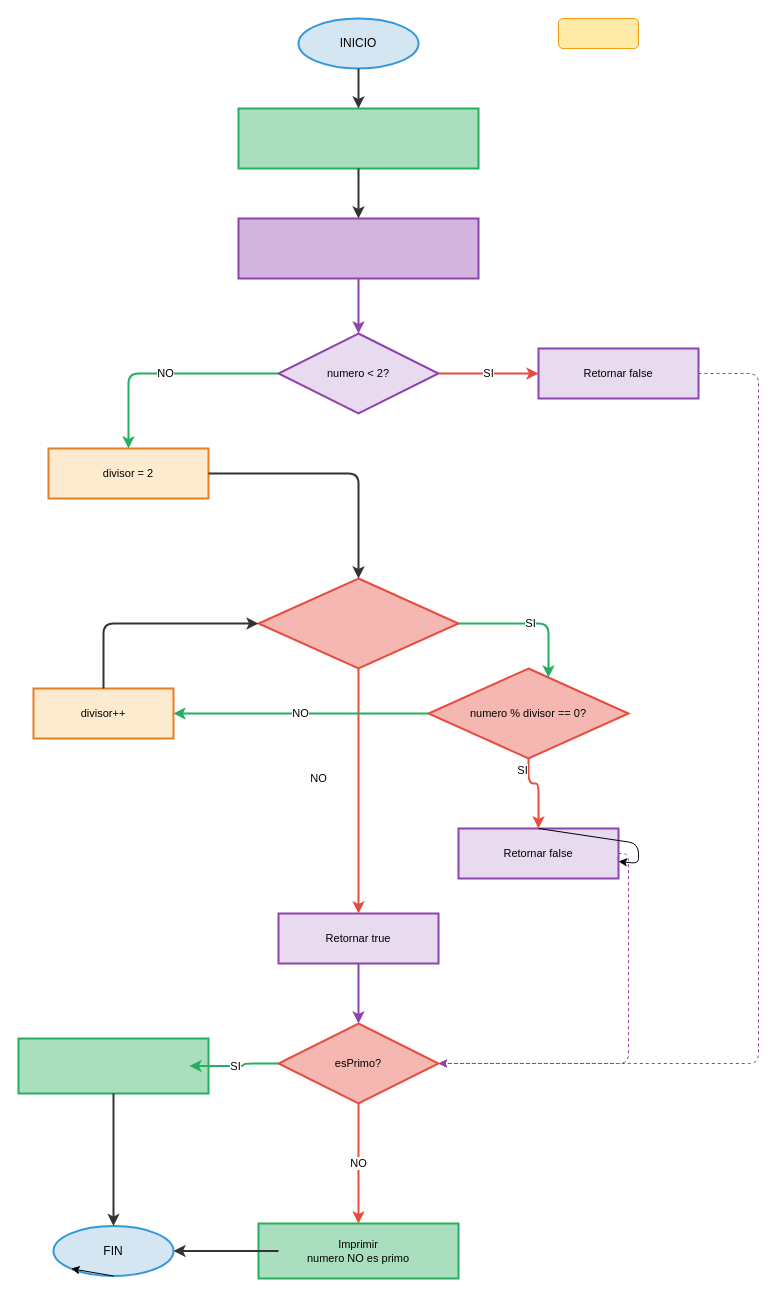
Some shapes in this 784 by 1301 pixel diagram are drawn without their labels. Here are the shapes that lost their labels. From the top down, the centre of each, then its label:
the point at 598,33: O(sqrt(n))
the point at 358,138: Leer numero
the point at 358,248: Llamar esPrimo(numero)
the point at 358,623: divisor*divisor <= numero?
the point at 113,1065: Imprimir numero ES primo
